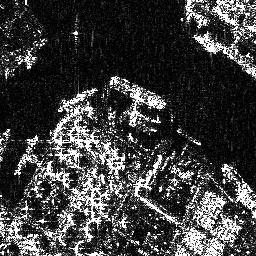ship: (219, 158, 256, 214), (109, 74, 166, 110), (56, 87, 97, 114), (14, 133, 39, 176), (194, 34, 218, 54)
